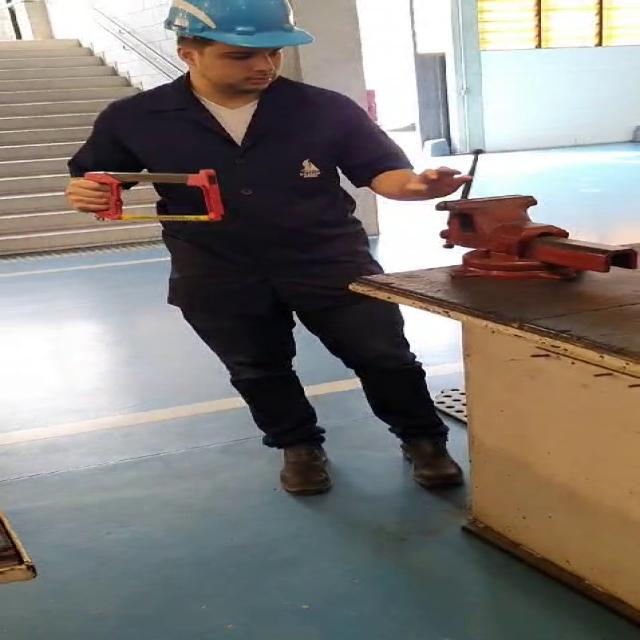sem_oculos: (167, 44, 298, 70)
